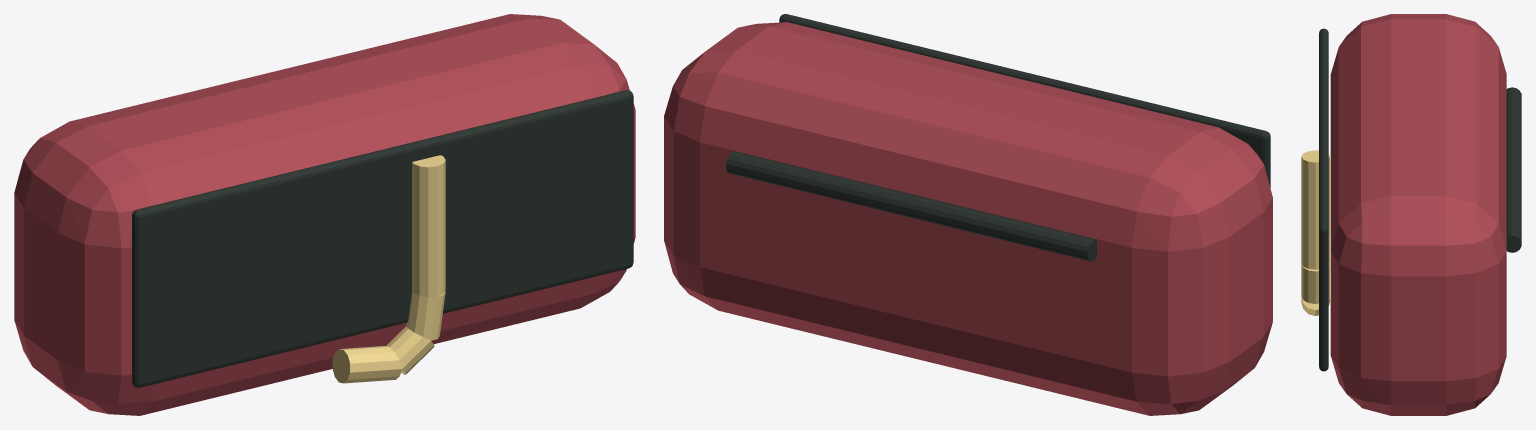
File: case-initial-v1-j3OCWyip.glb
3 renders of one model, left to right at view 1: azimuth 30°, elevation 25°; view 2: azimuth 150°, elevation 25°; view 3: azimuth 270°, elevation 25°, orthographic. The views are drawn at different scales.
Visible parts, largest first — view 1: Protective case shell, Case lid seam, J upright, J hook 3, J hook 1, J hook 2; view 2: Protective case shell, Hinge, Case lid seam; view 3: Protective case shell, Case lid seam, Hinge, J upright, J hook 1, J hook 2.
Boxes of the visible parts, left/top/right/bottom form: Protective case shell: left=14, top=14, right=635, bottom=415; Case lid seam: left=132, top=90, right=633, bottom=387; J upright: left=412, top=155, right=445, bottom=297; J hook 3: left=332, top=346, right=401, bottom=383; J hook 1: left=406, top=292, right=445, bottom=340; J hook 2: left=386, top=326, right=434, bottom=374; Protective case shell: left=664, top=22, right=1272, bottom=415; Hinge: left=726, top=151, right=1096, bottom=261; Case lid seam: left=779, top=14, right=1270, bottom=187; Protective case shell: left=1330, top=14, right=1506, bottom=415; Case lid seam: left=1319, top=28, right=1328, bottom=371; Hinge: left=1506, top=87, right=1521, bottom=252; J upright: left=1301, top=150, right=1329, bottom=269; J hook 1: left=1301, top=264, right=1329, bottom=303; J hook 2: left=1301, top=296, right=1329, bottom=315.
Size of the model in its own units: 1.96 by 0.86 by 0.8011.
